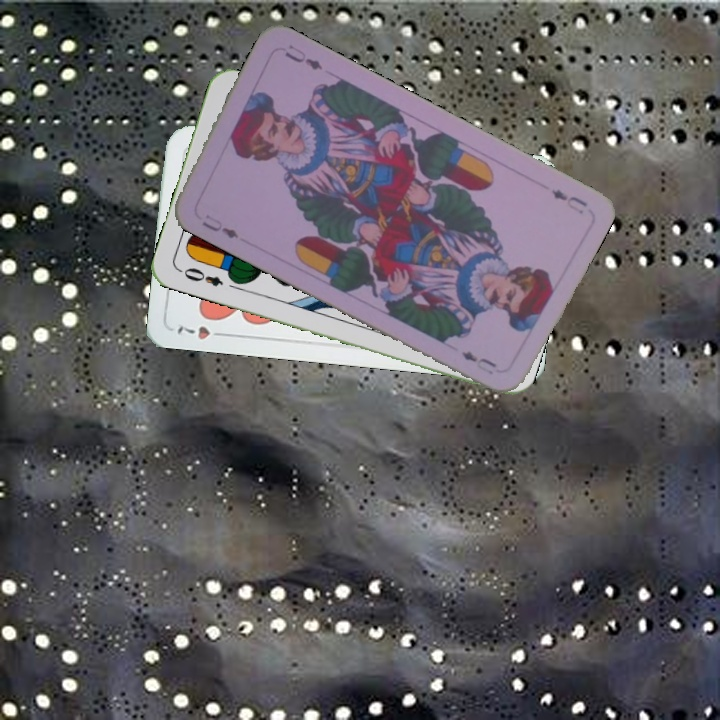EO: (175, 263, 226, 289)
EU: (198, 210, 242, 242), (547, 185, 590, 217)
H7: (173, 322, 230, 342)
